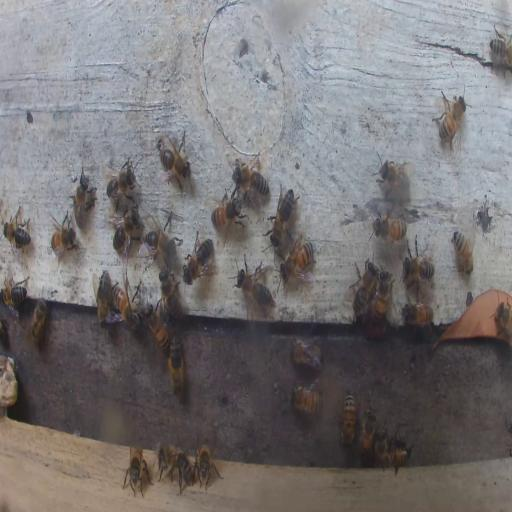bee: (156, 131, 194, 194), (431, 88, 467, 152), (232, 260, 273, 306), (348, 254, 376, 320), (402, 234, 435, 288), (270, 184, 297, 246), (182, 233, 214, 284), (106, 156, 138, 204), (229, 163, 270, 200), (112, 206, 141, 258), (71, 163, 95, 225), (112, 280, 141, 329), (49, 208, 77, 258), (209, 188, 242, 230), (145, 220, 177, 262), (281, 238, 313, 280), (488, 22, 512, 76), (375, 156, 409, 194), (158, 272, 184, 320), (146, 306, 173, 352), (123, 445, 146, 497), (370, 272, 391, 326), (290, 336, 324, 369), (167, 335, 185, 396), (158, 446, 186, 485), (451, 229, 474, 276), (372, 212, 407, 242), (338, 392, 356, 448), (3, 212, 31, 247), (94, 271, 112, 325), (290, 385, 322, 415), (358, 405, 376, 458), (399, 300, 434, 327), (1, 278, 27, 314), (30, 294, 48, 346), (195, 441, 215, 486), (492, 302, 512, 345), (175, 457, 195, 493), (384, 443, 410, 470), (375, 426, 387, 467)
